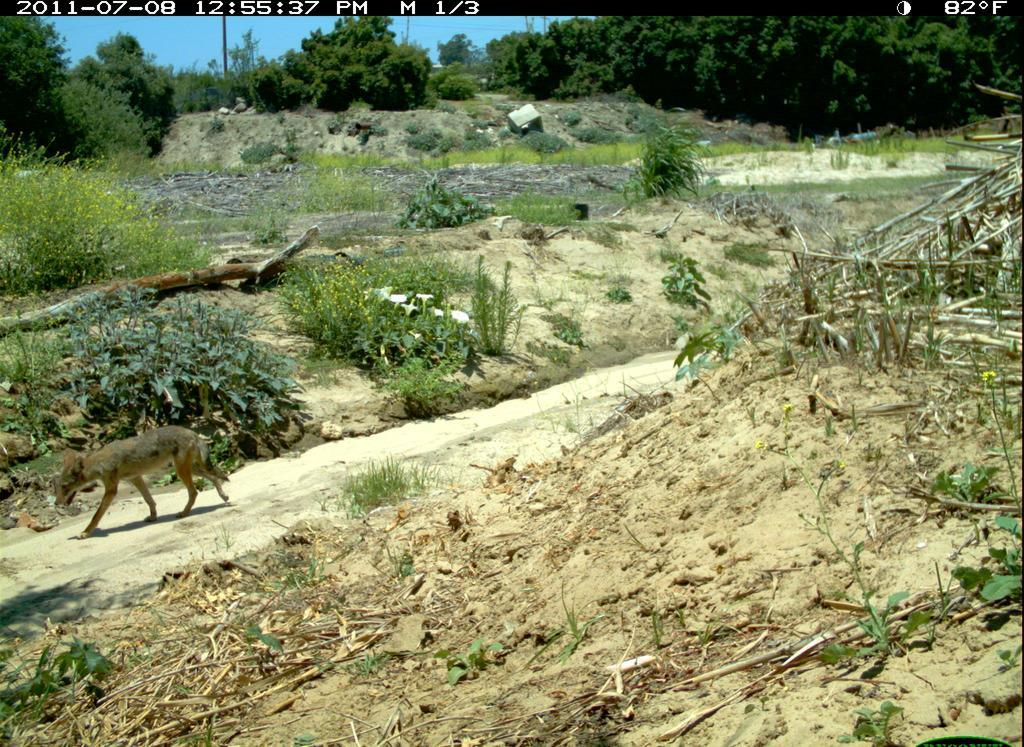coyote: (48, 419, 240, 543)
